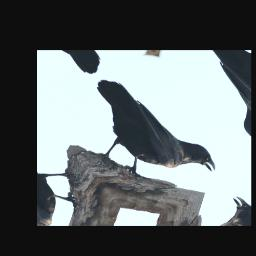Crow: (55, 63, 223, 207)
